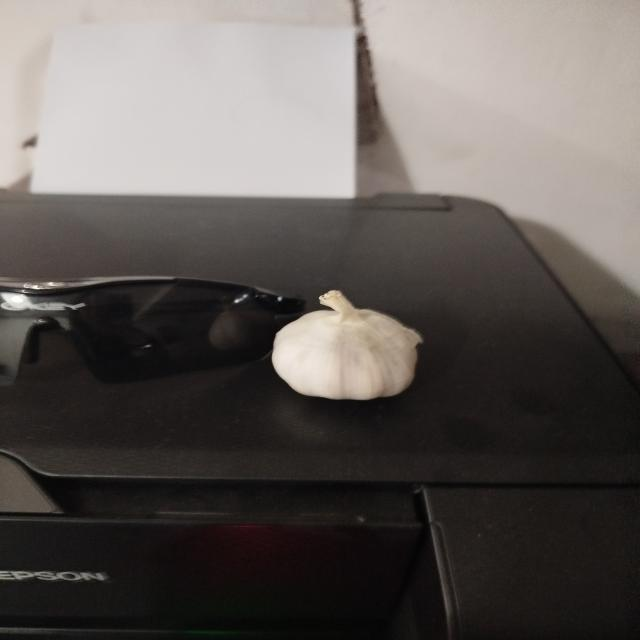garlic: (271, 288, 423, 401)
